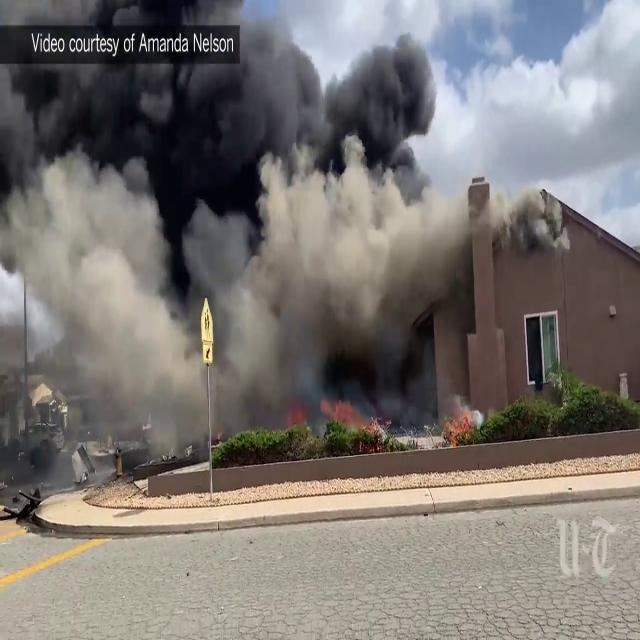Smoke: (0, 2, 467, 434)
